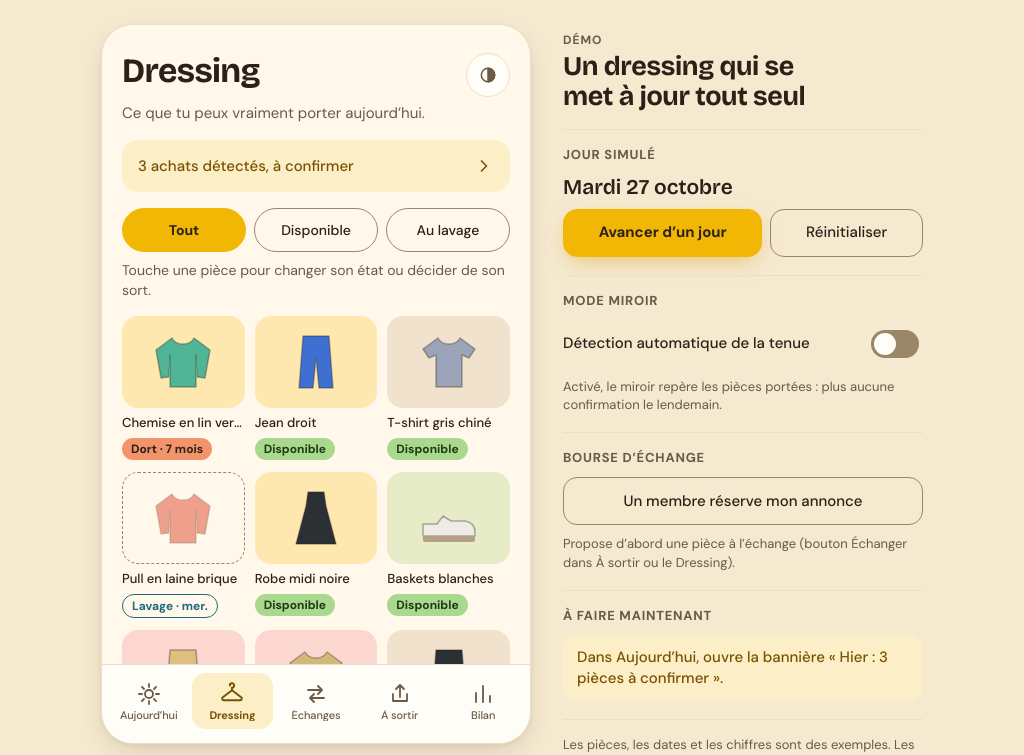
Test: Dressing › filtre les pièces au lavage
Click the button "Au lavage" at x=448, y=230, box [386,208,510,252]
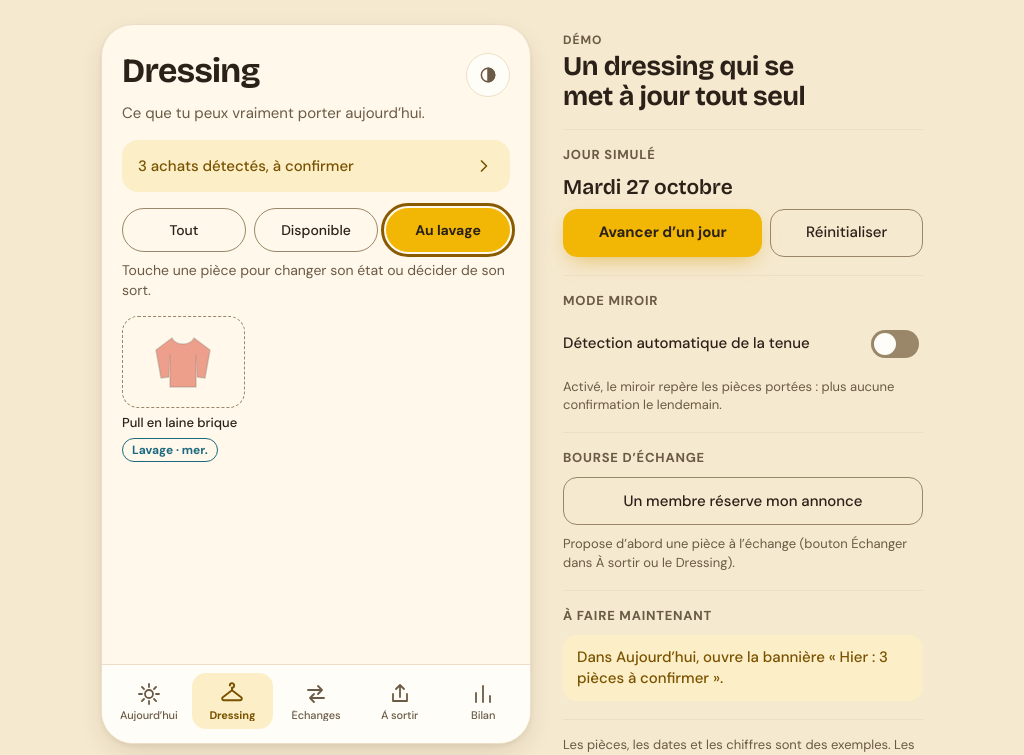
Now the button "Au lavage" is pressed, box [386,208,510,252]
Click the button "Disponible" at x=316, y=230, box [254,208,378,252]
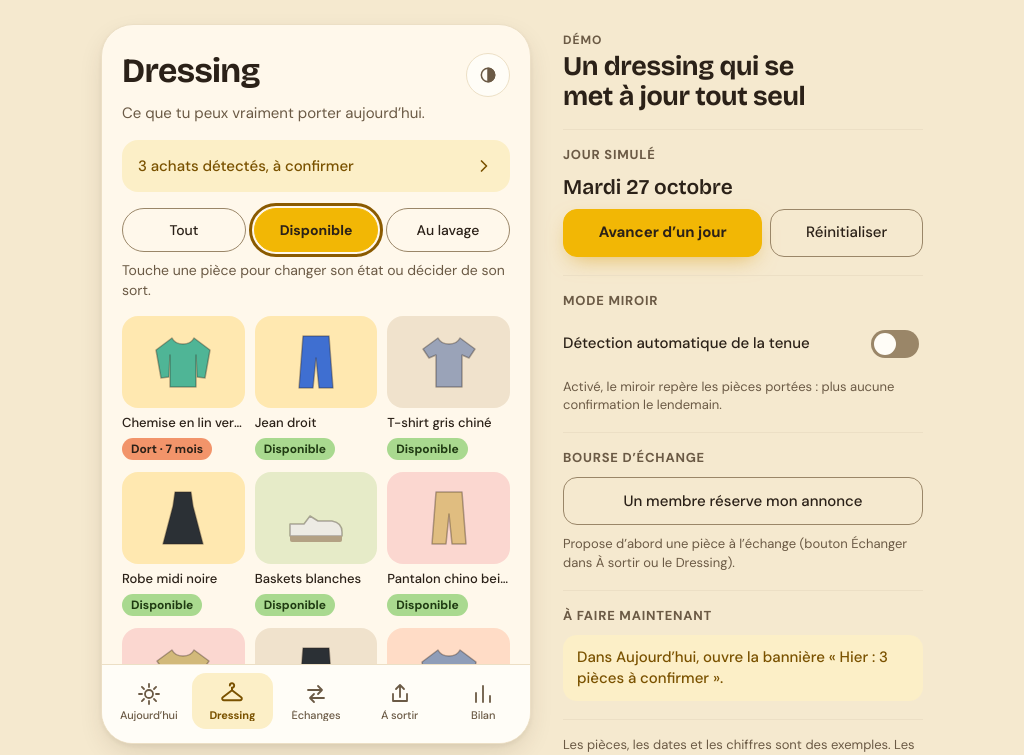
Now the number of buttons is 16
